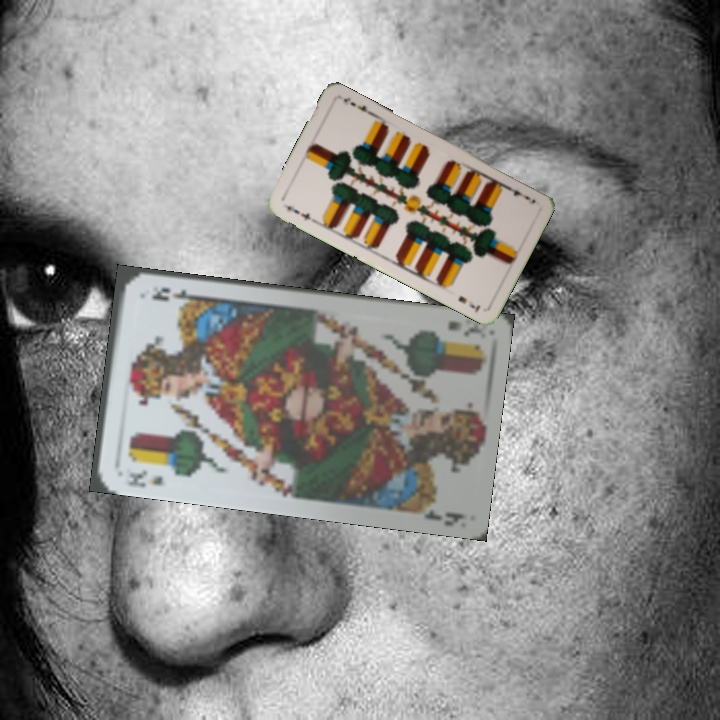E7: (283, 201, 313, 224), (502, 181, 533, 203)
EK: (123, 465, 166, 490), (443, 317, 486, 339)
